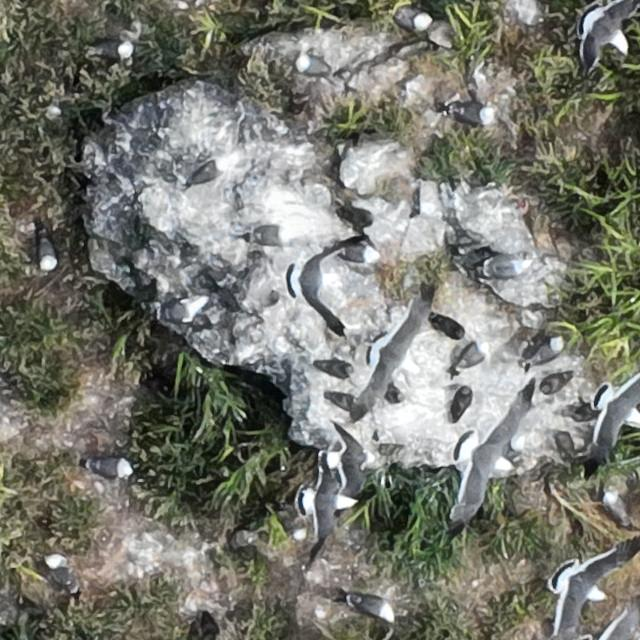F: (456, 392, 534, 516), (549, 544, 624, 627), (367, 308, 424, 407), (292, 234, 339, 324), (305, 458, 350, 538), (580, 2, 632, 71), (595, 375, 639, 452)
umineko: (185, 157, 228, 186), (481, 258, 535, 276), (166, 296, 201, 323), (352, 598, 394, 620), (89, 458, 131, 478), (47, 557, 74, 588), (451, 106, 492, 125), (252, 225, 288, 246), (532, 338, 562, 362), (460, 340, 487, 366), (90, 41, 129, 59), (397, 10, 429, 30), (435, 317, 465, 338), (336, 244, 373, 261), (606, 495, 628, 523), (40, 236, 58, 270), (298, 57, 330, 74), (42, 104, 74, 119)
